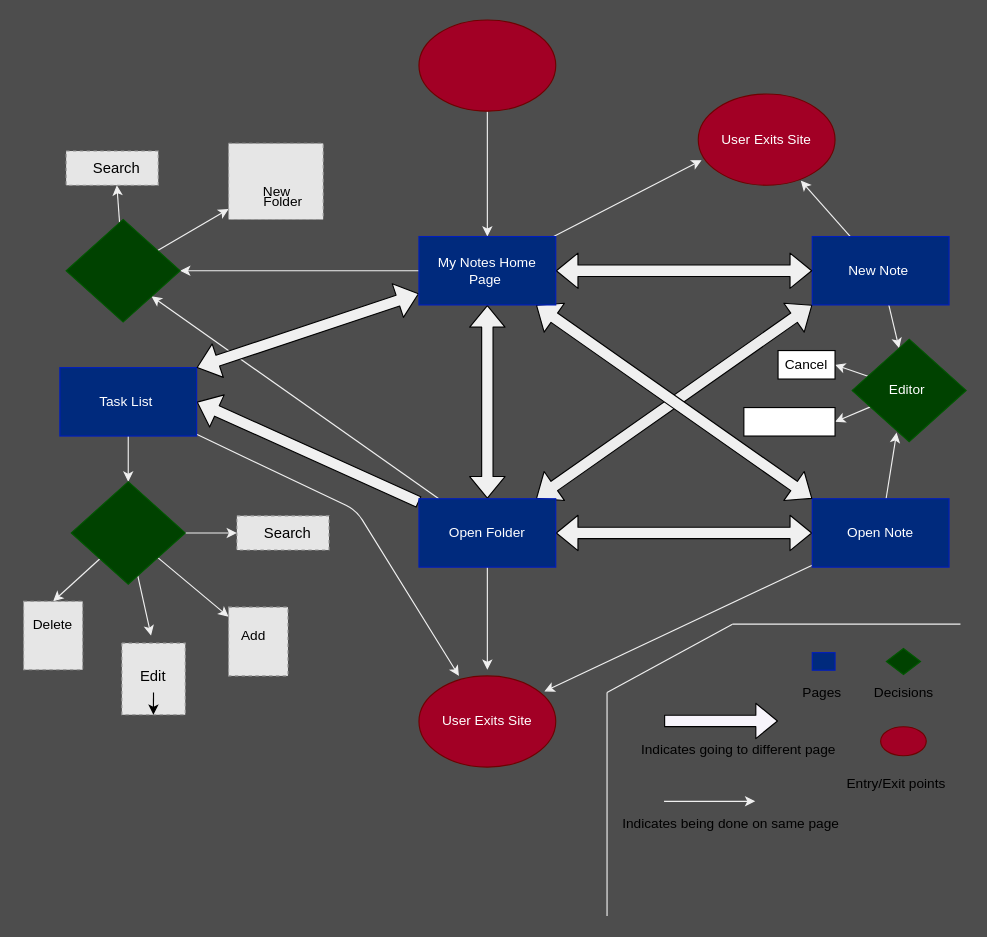
Image size: 987x937. Some labels were removed from this diagram. Grey dashed boxes stand in for pictures. Here are the shapes that lost their labels. From the top down, the centre of each, then its label:
point 487,65: User Enters Site
point 122,270: Notes/Folders
point 789,421: Save/Create
point 127,532: Previous tasks
